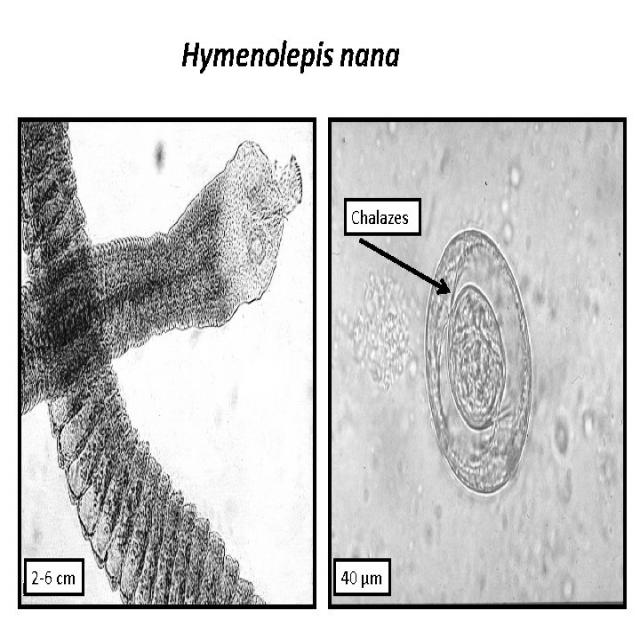Hymenolepis: (421, 223, 532, 504)
